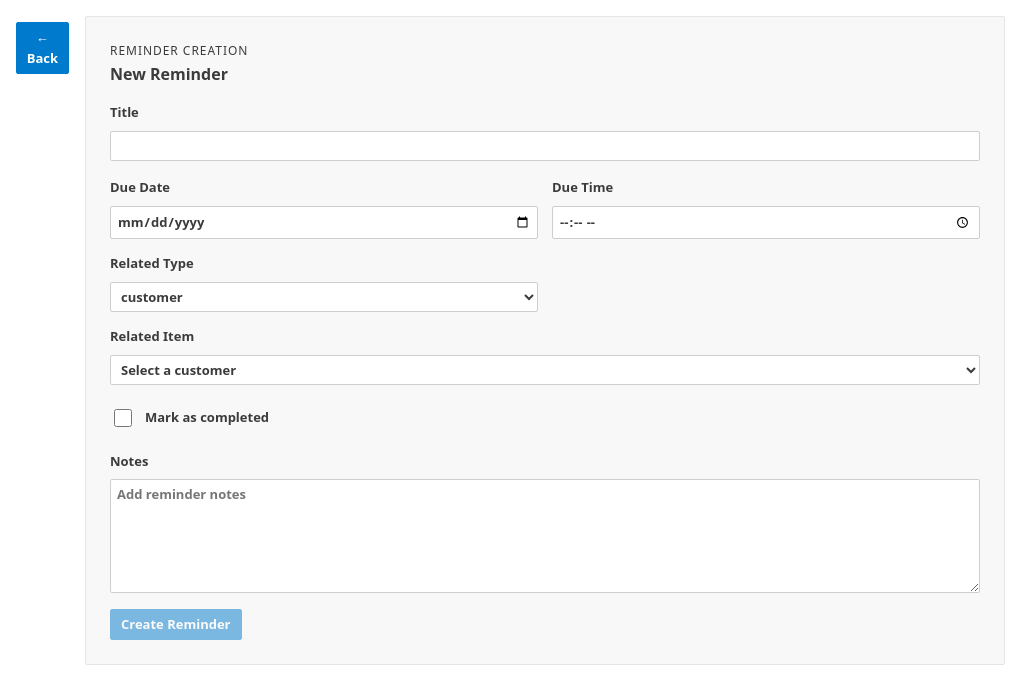
views/Reminder/NewReminder.vue › allows "other" related type without selecting a related item
This screenshot has width=1022, height=682.
Check: the submit button is disabled, box 110,609 -> 242,640
Select "other" in the dropdown labelled "Related Type": (324, 297) 110,282 -> 538,312
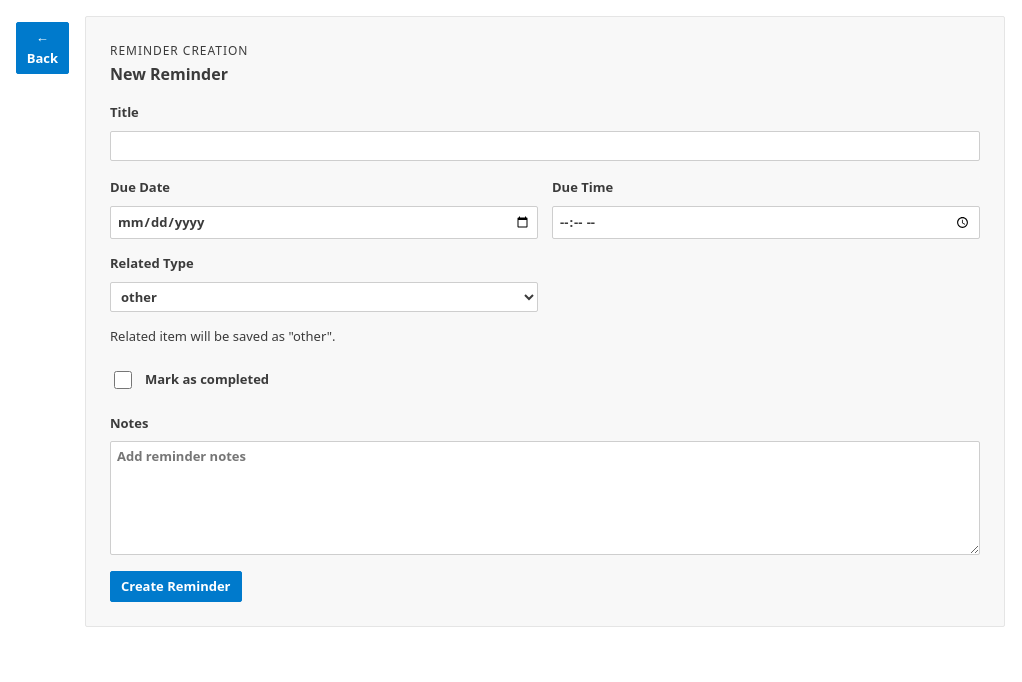
Check: the text "Related item will be saved as \"other\"." is shown, box 110,327 -> 336,345
Check: the submit button is enabled, box 110,571 -> 242,602
